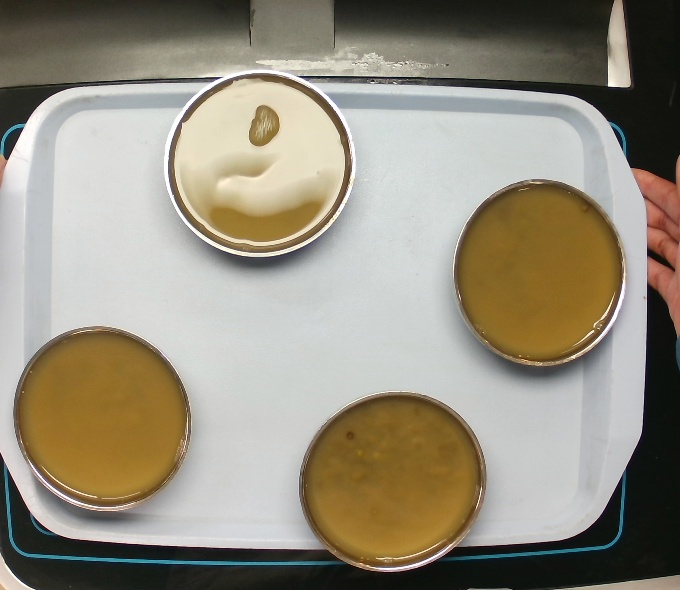wcq-LvDouTang: (167, 72, 350, 249), (452, 178, 624, 359), (11, 326, 189, 497), (306, 396, 480, 557)
